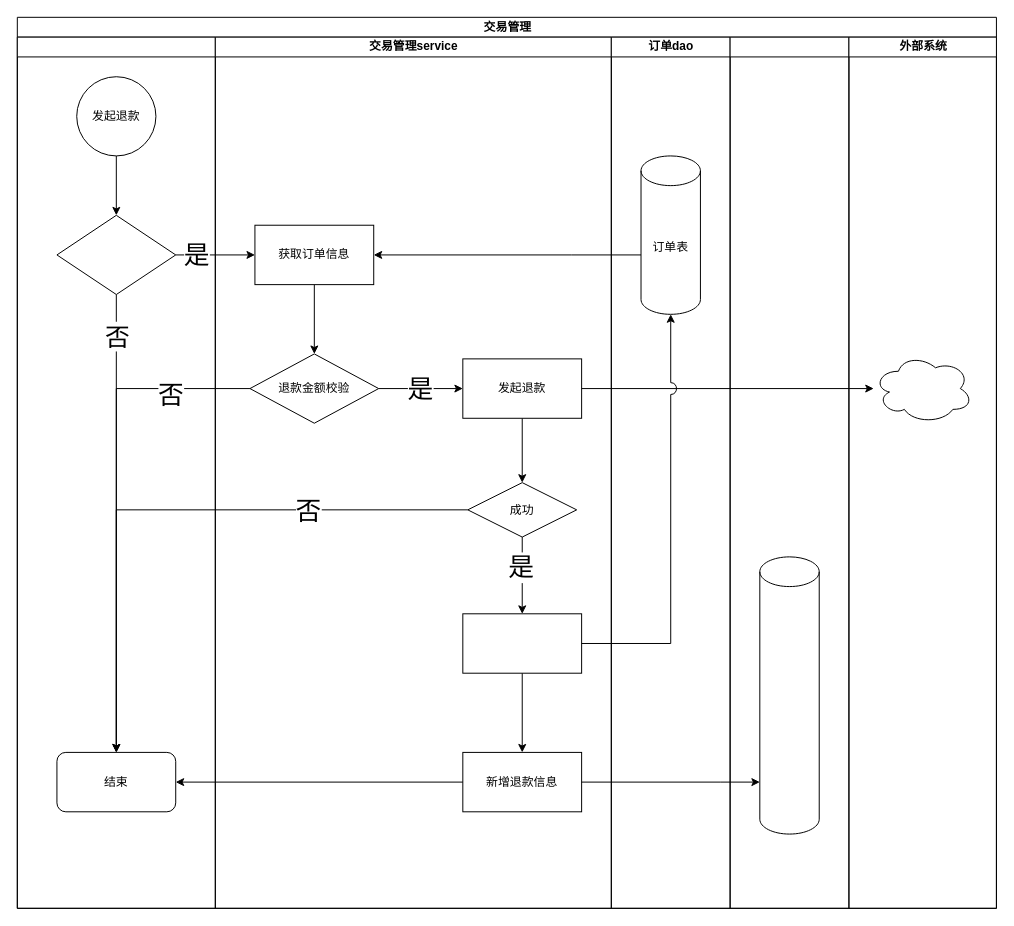
The diagram is 1014 pixels wide and 926 high, and some of its shapes have lost their labels. The box of each missing label's shape, as (x1, y1, x2, y2) in pixels:
交易管理controller: (16, 36, 215, 908)
外部平台: (873, 353, 973, 423)
更新订单信息: (462, 613, 582, 673)
校验参数: (56, 214, 176, 295)
退款信息: (759, 556, 819, 834)
退款单dao: (729, 36, 849, 908)
